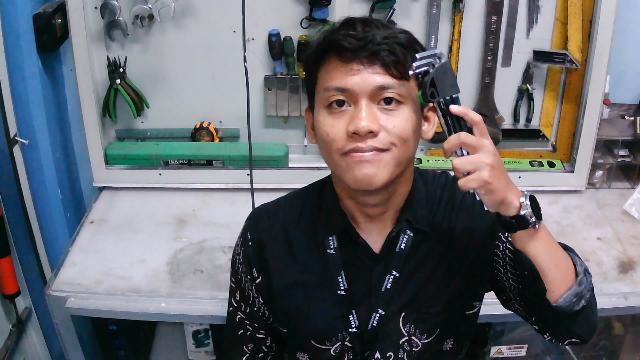kunci_l: (408, 45, 501, 212)
